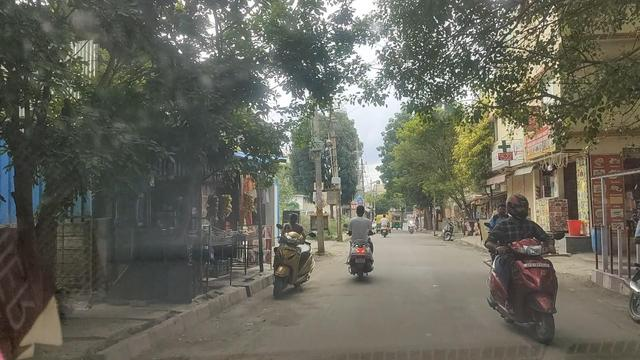LMV: (474, 177, 565, 351), (268, 220, 320, 299), (343, 197, 378, 285)
